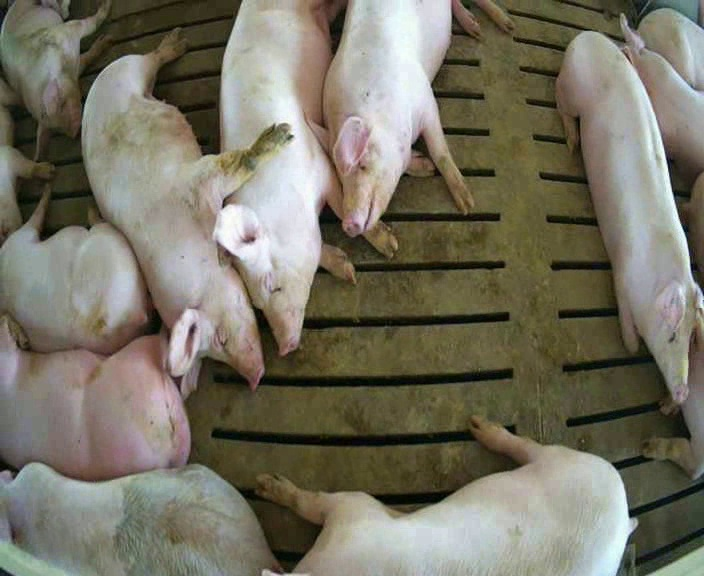pig: (82, 29, 292, 393), (257, 416, 635, 574), (556, 32, 703, 403), (0, 185, 148, 353), (0, 2, 111, 159), (620, 15, 703, 179), (638, 8, 703, 90)
